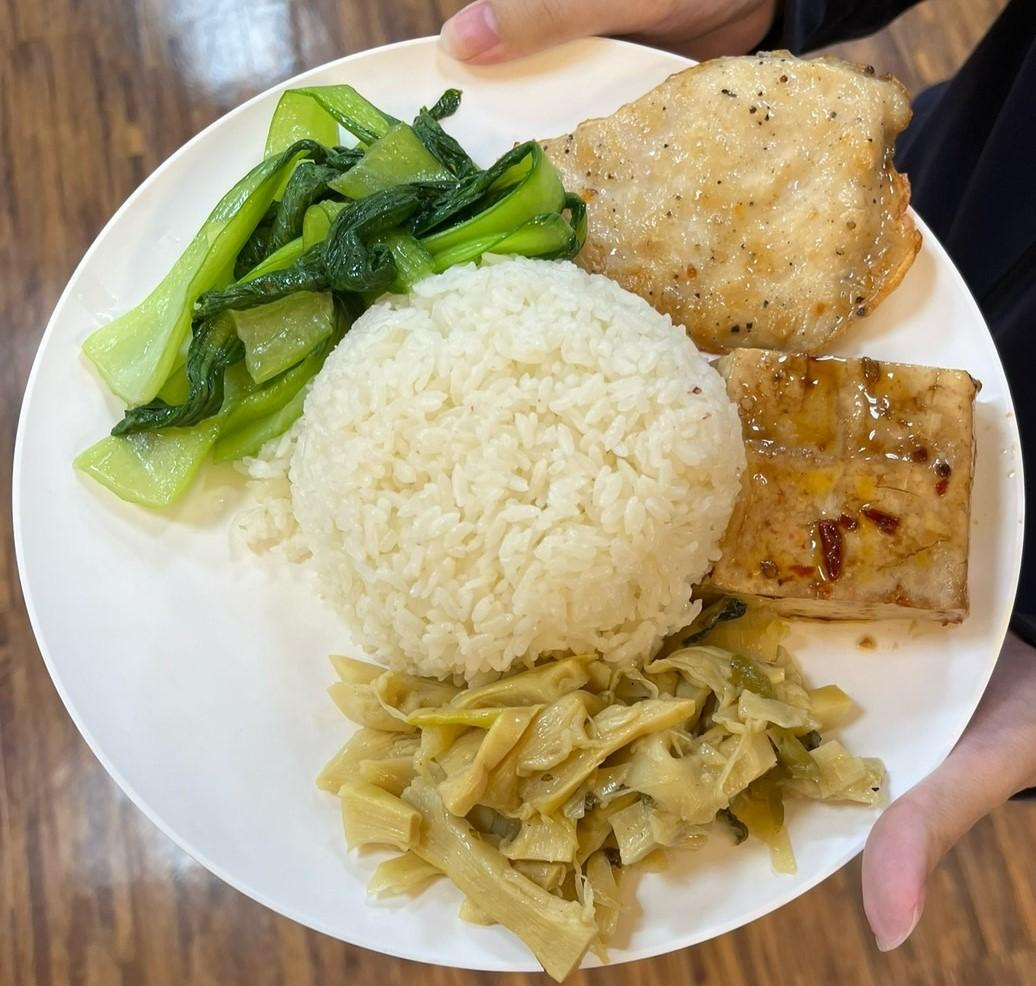big fried chicken leg: (8, 10, 1029, 986)
big herbal chicken leg: (284, 262, 746, 684)
braised fish fillet: (73, 69, 586, 531), (322, 636, 895, 977), (706, 348, 988, 630)
braised pork: (524, 46, 920, 350)
